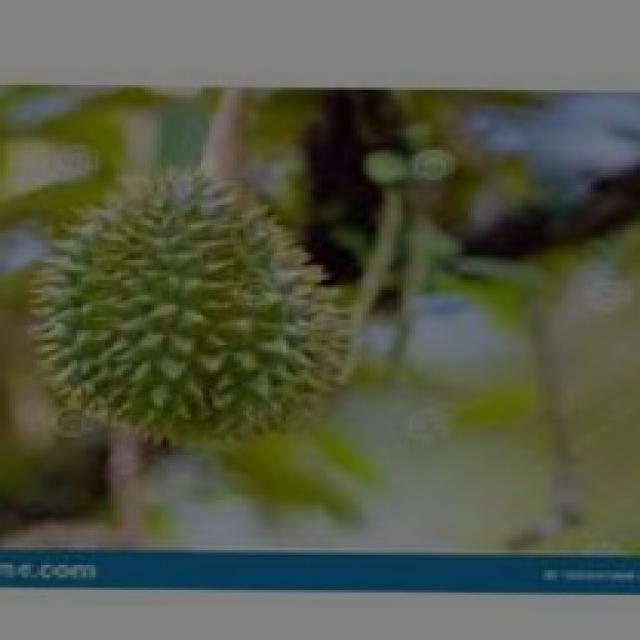fruit: (0, 122, 403, 522)
